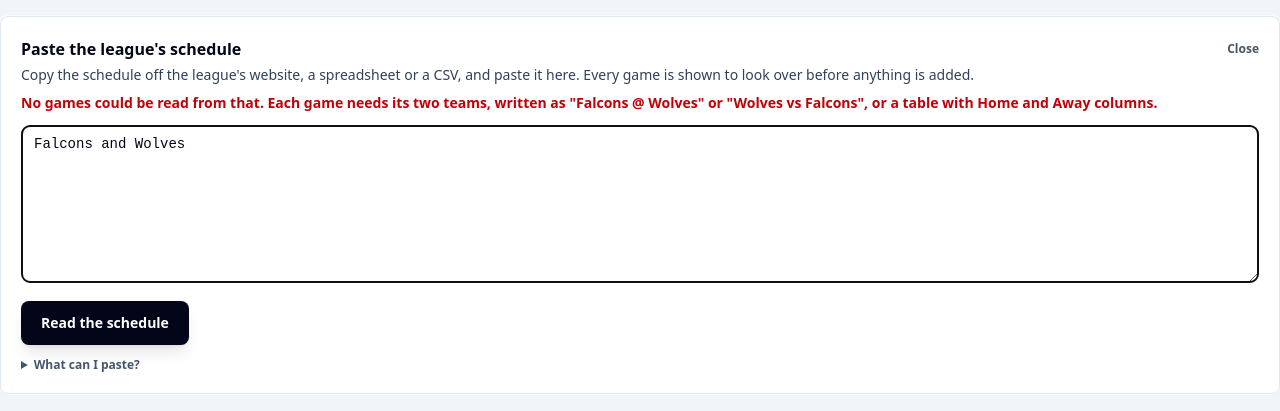
Test: pasting the league's schedule › says what it needs when nothing could be read, and goes back to the text
Expected: the message shows "No games could be read", left=21, top=93, right=1157, bottom=112
Replace the text in the text box named "League schedule to read" with "Falcons @ Wolves" at (640,204), box left=21, top=125, right=1259, bottom=283
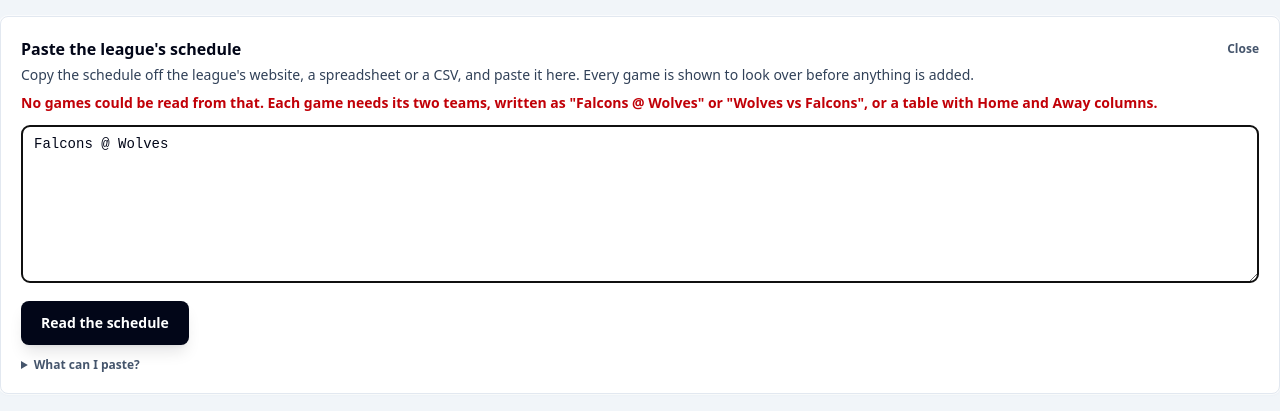
Click the button "Read the schedule" at (105,323), box left=21, top=301, right=189, bottom=345
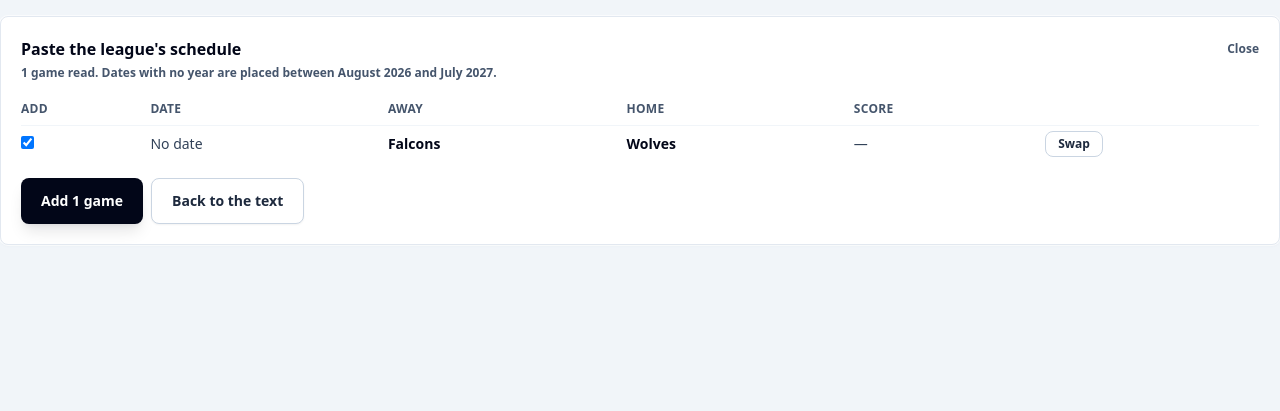
Click the button "Back to the text" at (228,201), box left=151, top=178, right=304, bottom=224
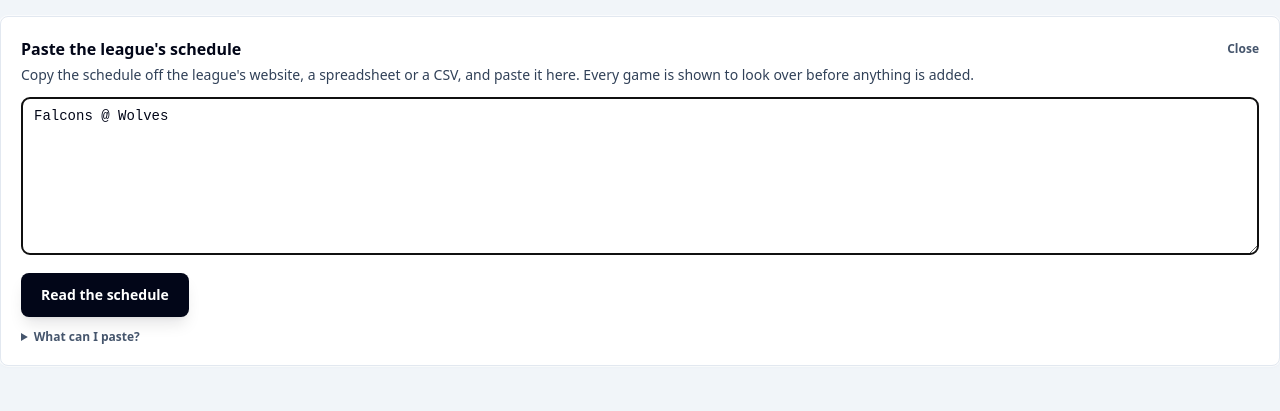
Now the text box named "League schedule to read" holds "Falcons @ Wolves", box left=21, top=97, right=1259, bottom=255
